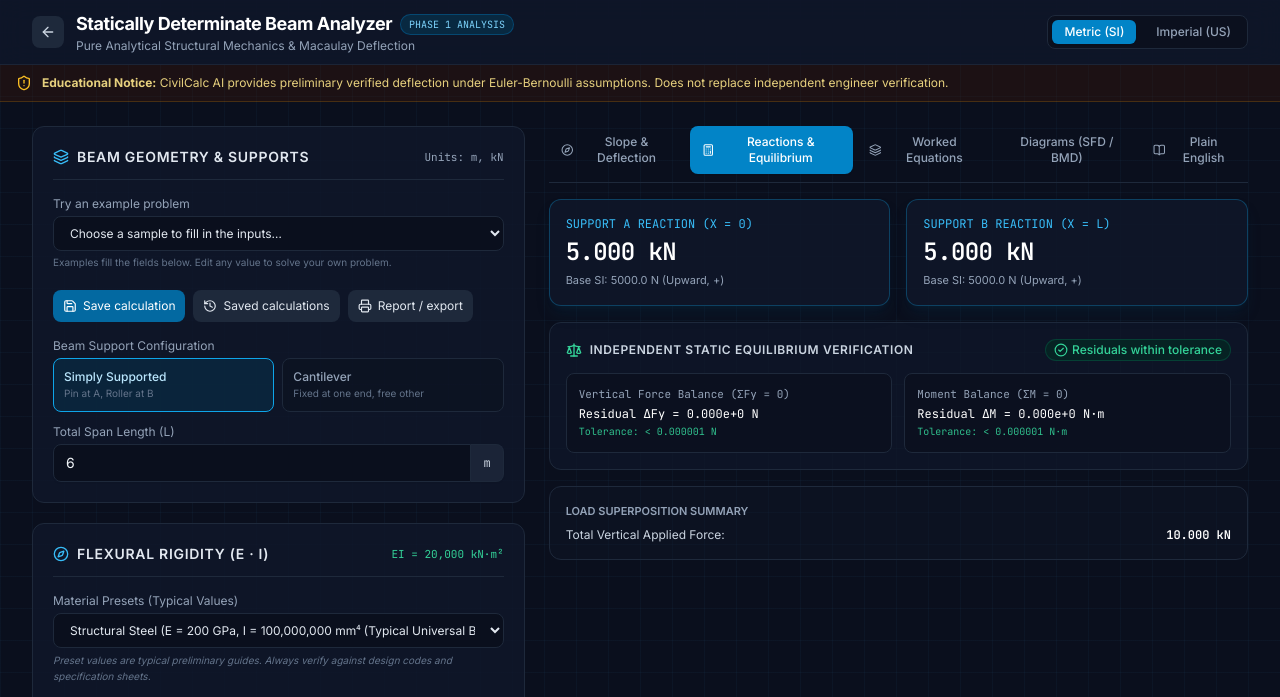
it: BeamWorkspace Component (Milestone 2 & 3) › switches to Slope & Deflection tab and displays max deflection and diagrams
This screenshot has width=1280, height=697.
Step 1. Click the button "Slope & Deflection" → (617, 150), box top-left (549, 126), bottom-right (686, 174)
(page scrolled)
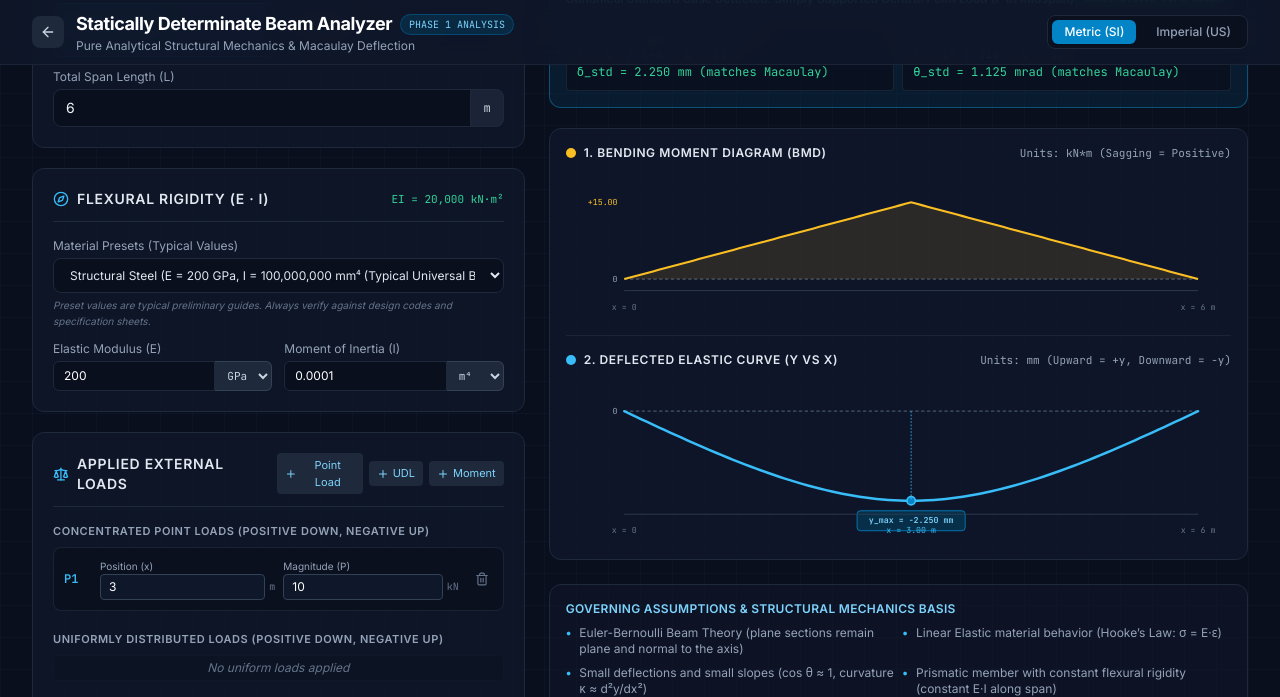
expect the heading "1. Bending Moment Diagram (BMD)" is shown: met, box top-left (584, 145), bottom-right (827, 161)
expect the heading "2. Deflected Elastic Curve (y vs x)" is shown: met, box top-left (584, 352), bottom-right (838, 368)
